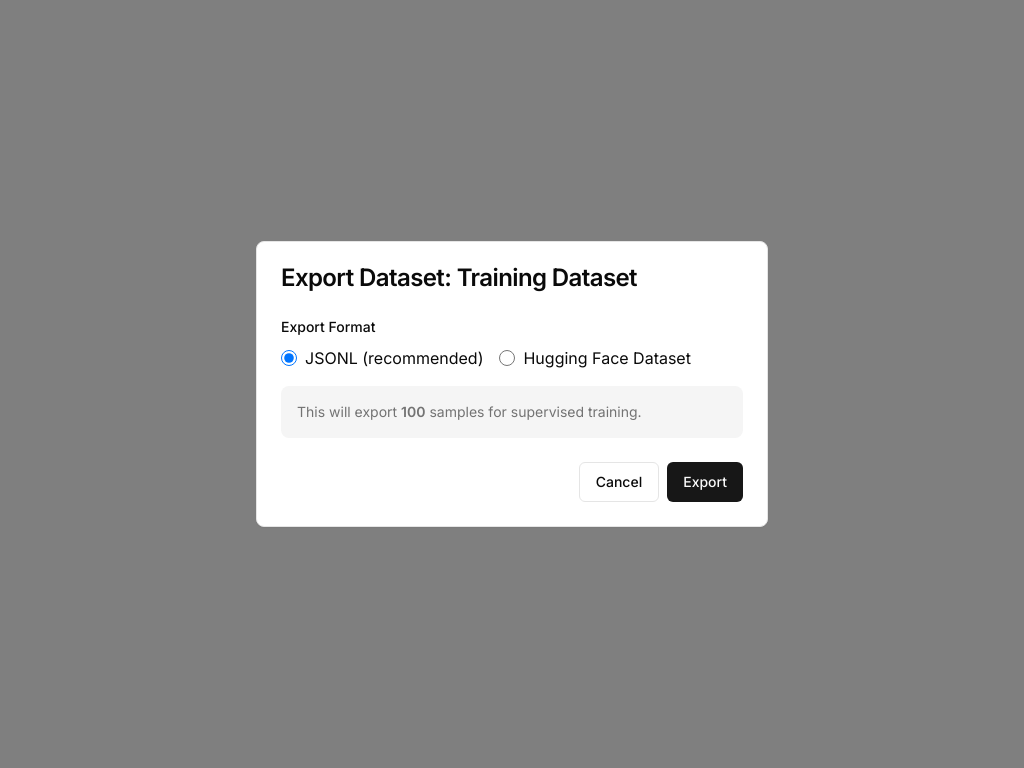
it: DatasetExportDialog › shows loading state during export
Click the button "Export": click(705, 482) 667,462 -> 743,502
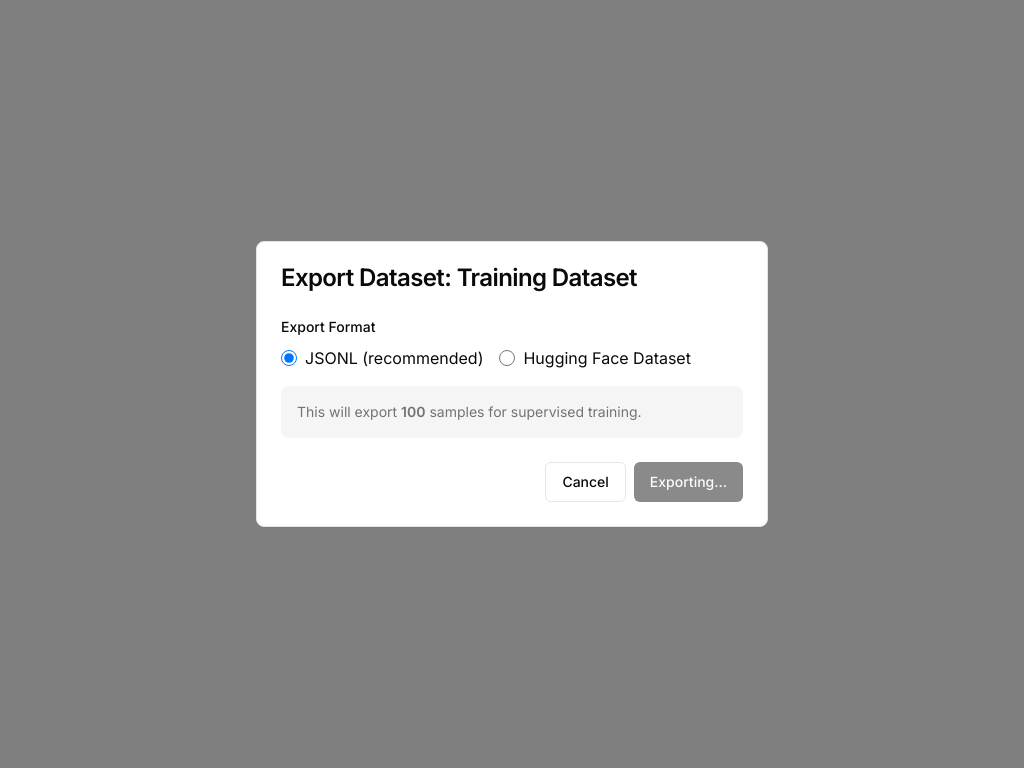
Now the button "Exporting..." is shown, box 634,462 -> 743,502
